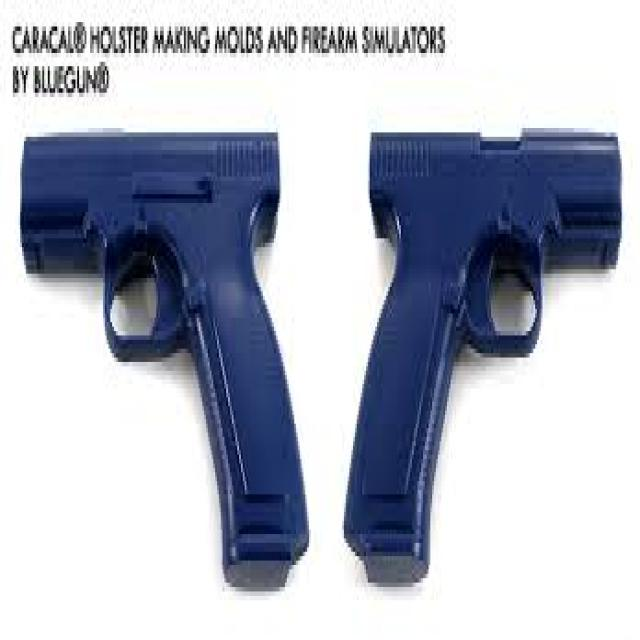Gun: (9, 95, 322, 594), (329, 110, 639, 588)
